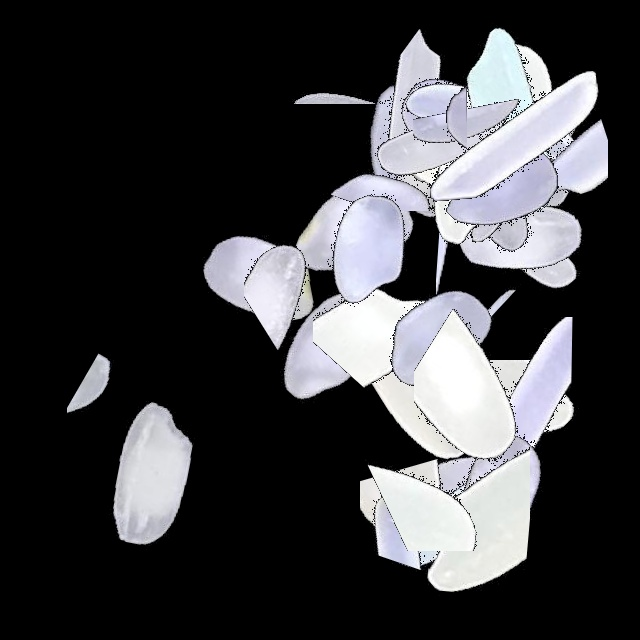Broken: (362, 317, 612, 484), (367, 0, 527, 250), (390, 360, 640, 509), (414, 267, 561, 517), (313, 184, 458, 434), (244, 150, 389, 400), (386, 390, 530, 640), (409, 0, 552, 250), (448, 64, 579, 314), (266, 87, 516, 211), (413, 44, 533, 294), (295, 463, 545, 582), (320, 435, 570, 551), (494, 27, 608, 277), (436, 142, 544, 392), (394, 0, 500, 250), (371, 390, 476, 640), (334, 230, 584, 328), (236, 11, 486, 104), (67, 295, 159, 545), (360, 390, 450, 640), (377, 0, 467, 250)
Full: (386, 63, 636, 313), (342, 36, 592, 286), (390, 109, 640, 359), (280, 21, 530, 271), (133, 153, 383, 403), (232, 106, 482, 356), (356, 363, 606, 613), (200, 223, 450, 473), (301, 25, 551, 275), (366, 0, 616, 250), (390, 106, 640, 356), (288, 241, 538, 491), (287, 249, 537, 499), (355, 65, 605, 315), (327, 390, 577, 640), (243, 120, 493, 370), (390, 0, 640, 250), (375, 363, 625, 613), (321, 0, 571, 250), (388, 52, 638, 302), (370, 0, 620, 250), (363, 16, 613, 266), (386, 0, 636, 250), (322, 13, 572, 263), (375, 61, 625, 311), (390, 12, 640, 262), (310, 214, 560, 464), (28, 351, 278, 601)
